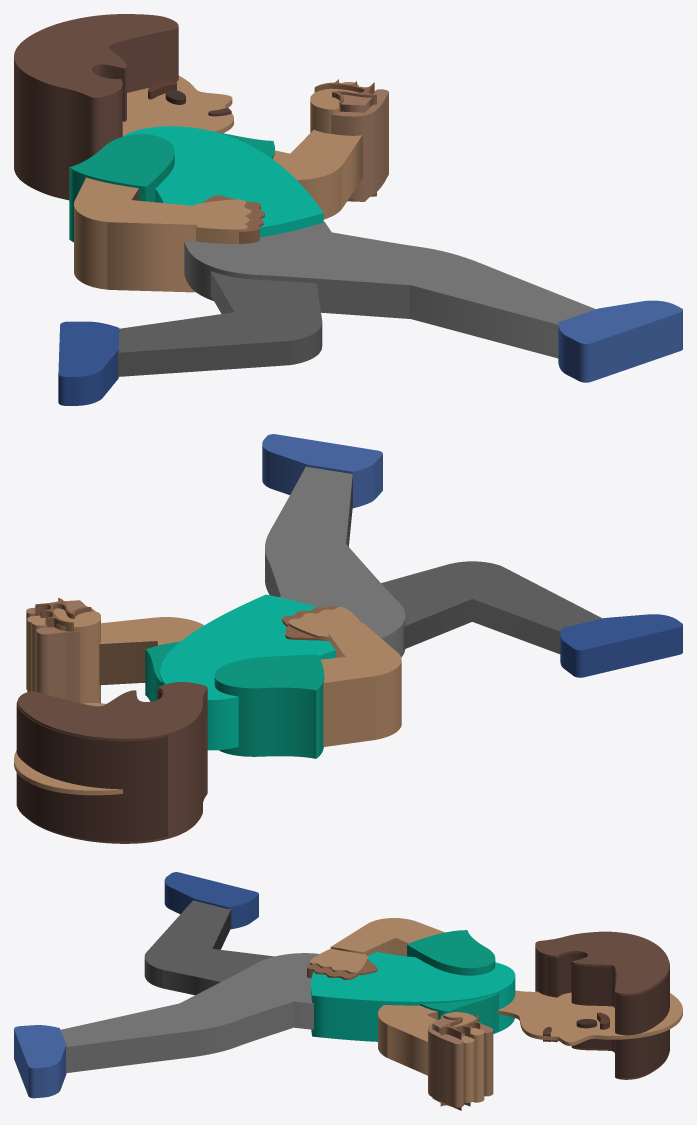
File: emoji_u1f3c3_1f3fd_200d_2642_200d_27a1.glb
3 views of the same model, one above another, from view 1: azimuth 30°, elevation 25°; view 2: azimuth 150°, elevation 25°; view 3: azimuth 270°, elevation 25° (orthographic). The views are drawn at different scales.
Parts seen in each view (by area): view 1: emoji_u1f3c3_1f3fd_200d_2642_200d_27a1; view 2: emoji_u1f3c3_1f3fd_200d_2642_200d_27a1; view 3: emoji_u1f3c3_1f3fd_200d_2642_200d_27a1.
Boxes of the visible parts, bbox=[...] form: emoji_u1f3c3_1f3fd_200d_2642_200d_27a1: bbox=[14, 14, 682, 405]; emoji_u1f3c3_1f3fd_200d_2642_200d_27a1: bbox=[14, 434, 682, 843]; emoji_u1f3c3_1f3fd_200d_2642_200d_27a1: bbox=[14, 872, 682, 1110].
Size of the model in its own units: 0.023 by 0.0046 by 0.0325.
